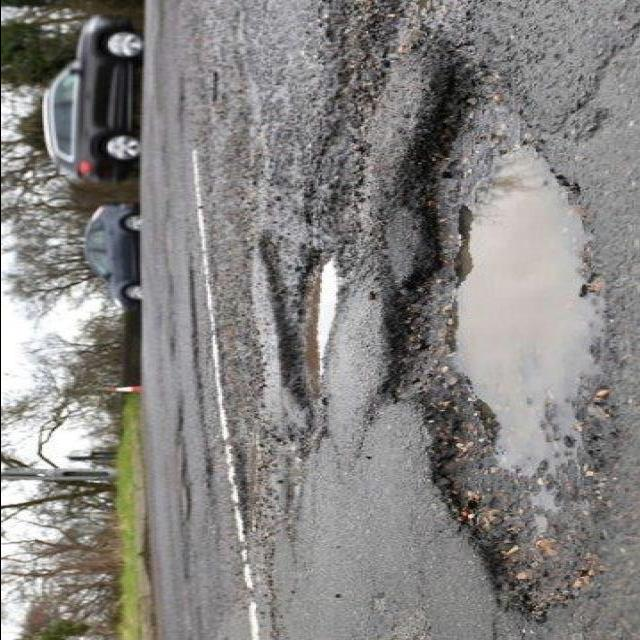lubang: (348, 40, 640, 635), (279, 1, 447, 278), (248, 229, 376, 447), (164, 250, 226, 440), (152, 394, 206, 596), (208, 430, 274, 576)
